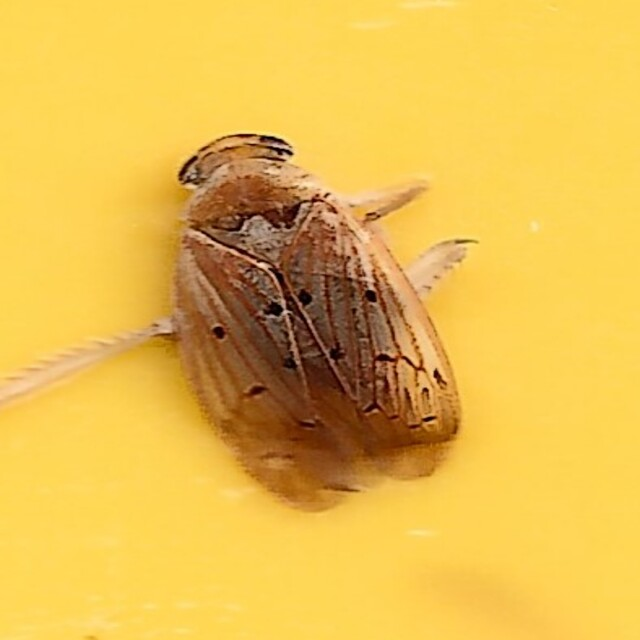Hemiptera: (162, 122, 478, 518)
